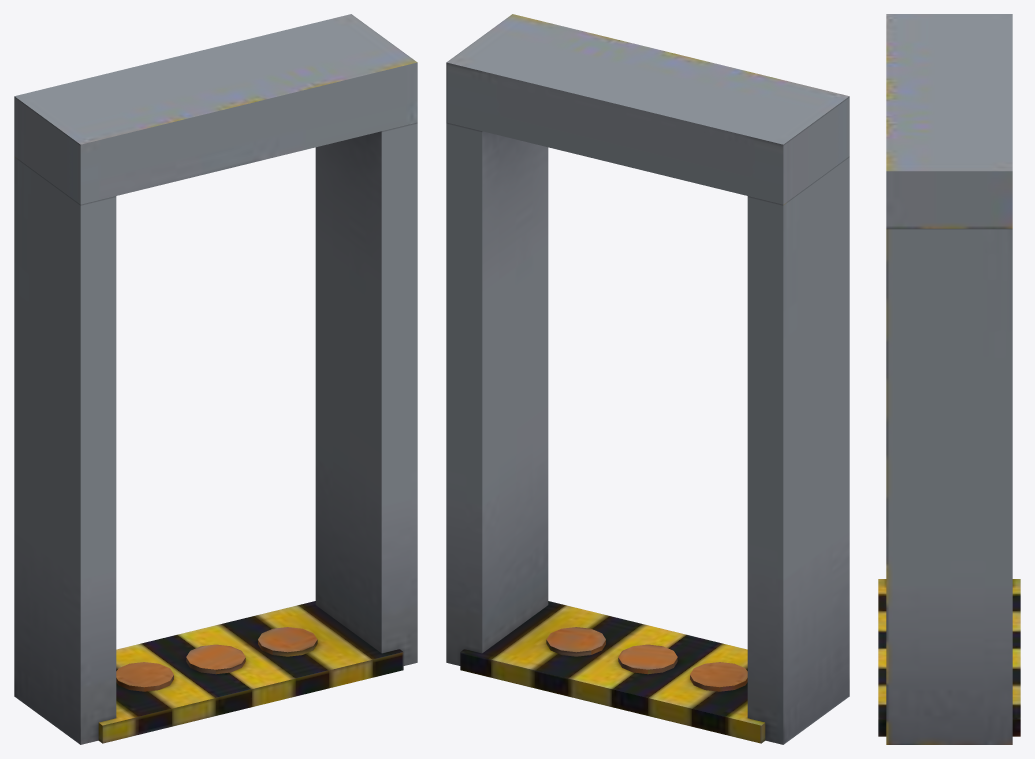
Rendered from prensa_marco.glb.
3 renders of one model, left to right at view 1: azimuth 30°, elevation 25°; view 2: azimuth 150°, elevation 25°; view 3: azimuth 270°, elevation 25°, orthographic. The views are drawn at different scales.
Visible parts, largest first — view 1: prensa_marco; view 2: prensa_marco; view 3: prensa_marco.
Boxes of the visible parts, box(x1,y1,x2,y2) form: prensa_marco: box(14, 14, 417, 744); prensa_marco: box(446, 14, 849, 744); prensa_marco: box(878, 14, 1020, 744).
Bounding box in the file's own units: 2.35 × 4 × 0.9.
1 material, 1 textured.
